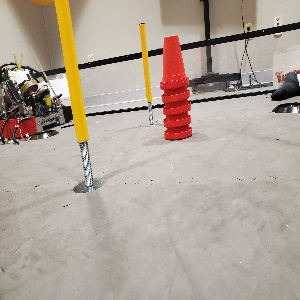Red_5: (159, 35, 191, 139)
